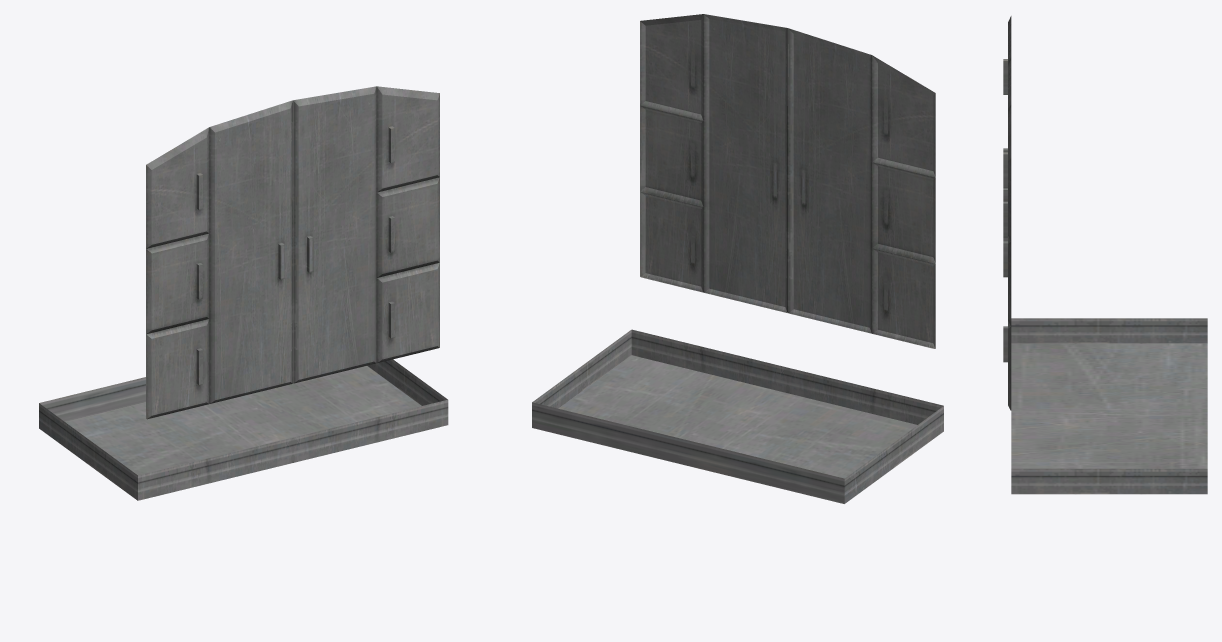
File: frn_all_mdrn_cabinet_s01_l0.fbx
The picture shows the model from 3 angles, left to right: view 1: azimuth 30°, elevation 25°; view 2: azimuth 150°, elevation 25°; view 3: azimuth 270°, elevation 25°; orthographic projection.
Parts seen in each view (by area): view 1: mesh_node; view 2: mesh_node; view 3: mesh_node.
Boxes of the visible parts, x1,y1,x2,y2 form: mesh_node: (39, 86, 448, 500); mesh_node: (532, 14, 943, 503); mesh_node: (1003, 16, 1207, 494).
Bounding box in the file's own units: 1.82 × 2.26 × 0.8723.
